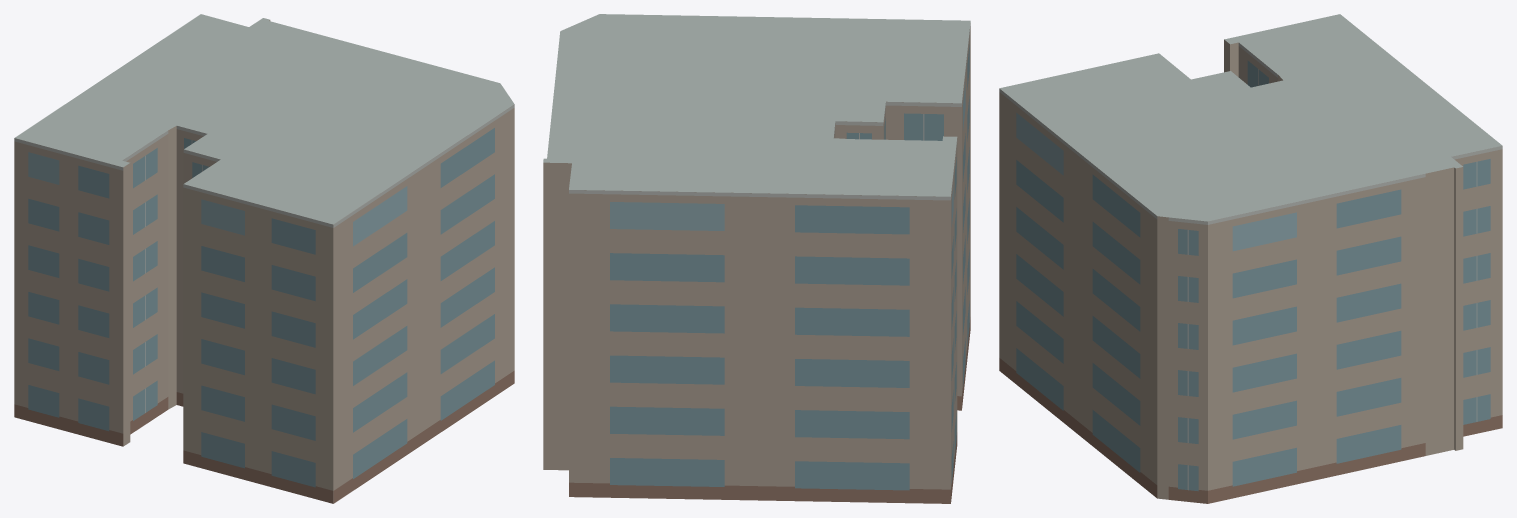
File: survey-upis-32830632.glb
3 views of the same model, side by side, from view 1: azimuth 30°, elevation 25°; view 2: azimuth 150°, elevation 25°; view 3: azimuth 270°, elevation 25° (orthographic). The views are drawn at different scales.
Parts seen in each view (by area): view 1: survey-upis-32830632.tmp; view 2: survey-upis-32830632.tmp; view 3: survey-upis-32830632.tmp.
Boxes of the visible parts, left/top/right/bottom form: survey-upis-32830632.tmp: left=14, top=14, right=514, bottom=503; survey-upis-32830632.tmp: left=543, top=14, right=970, bottom=503; survey-upis-32830632.tmp: left=999, top=14, right=1502, bottom=503.
Size of the model in its own units: 31.69 by 20.1 by 32.49.
